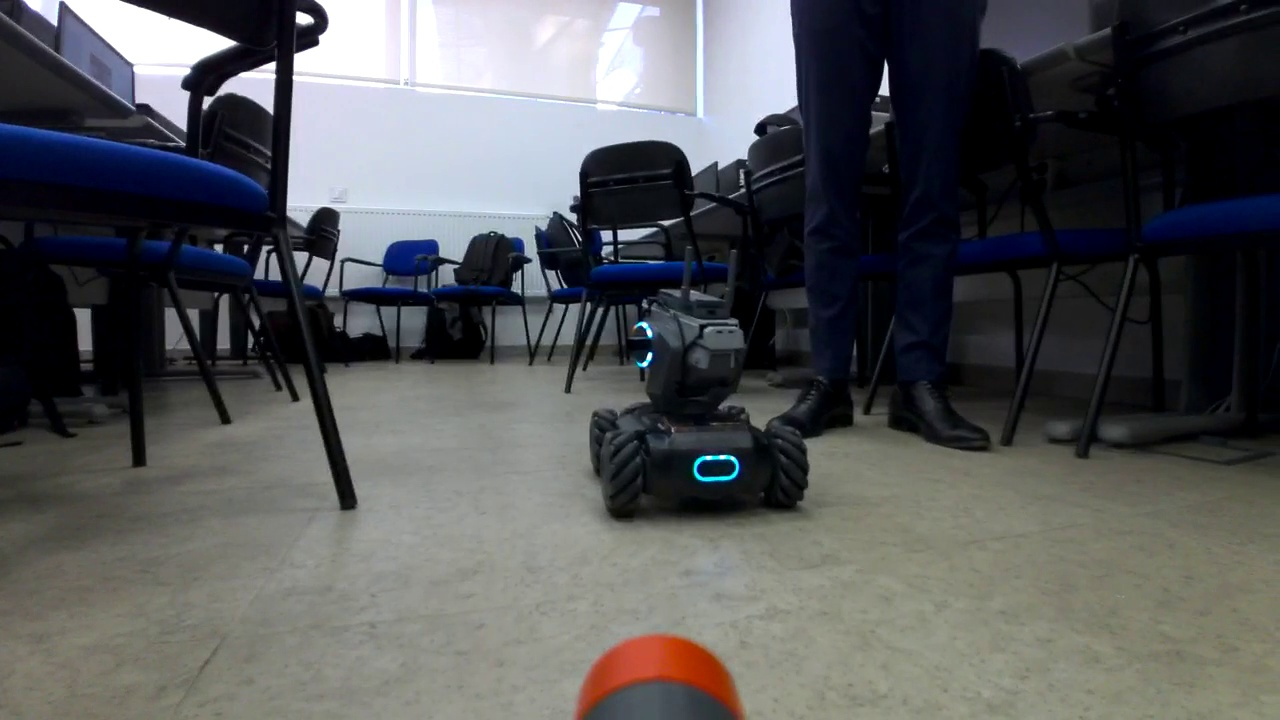robot: (588, 284, 815, 523)
